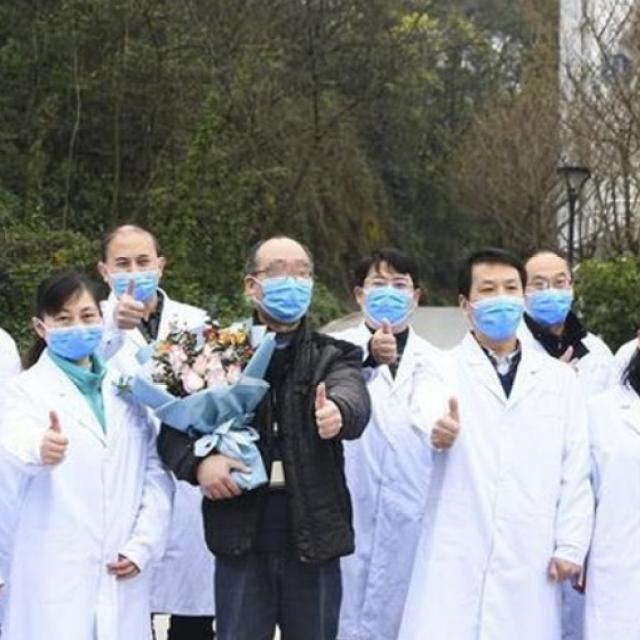mask: (27, 315, 134, 371), (246, 269, 328, 327), (353, 277, 412, 334), (466, 294, 531, 342), (525, 285, 585, 332), (113, 258, 168, 308)
